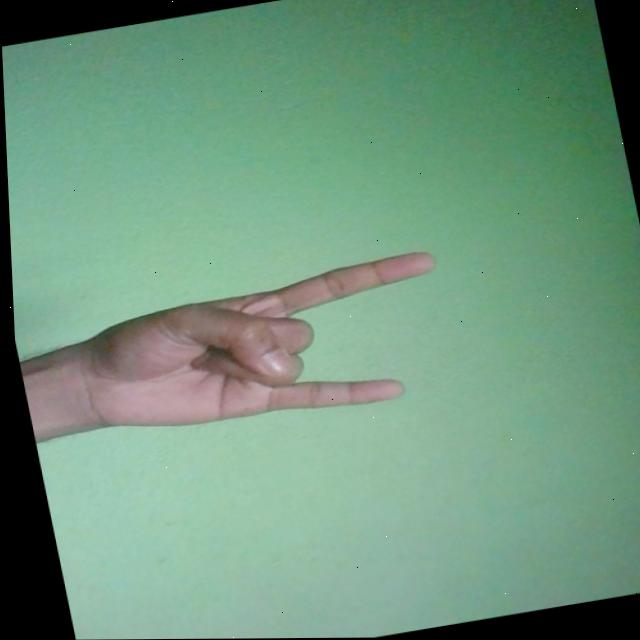Rock On: (57, 250, 461, 452)
